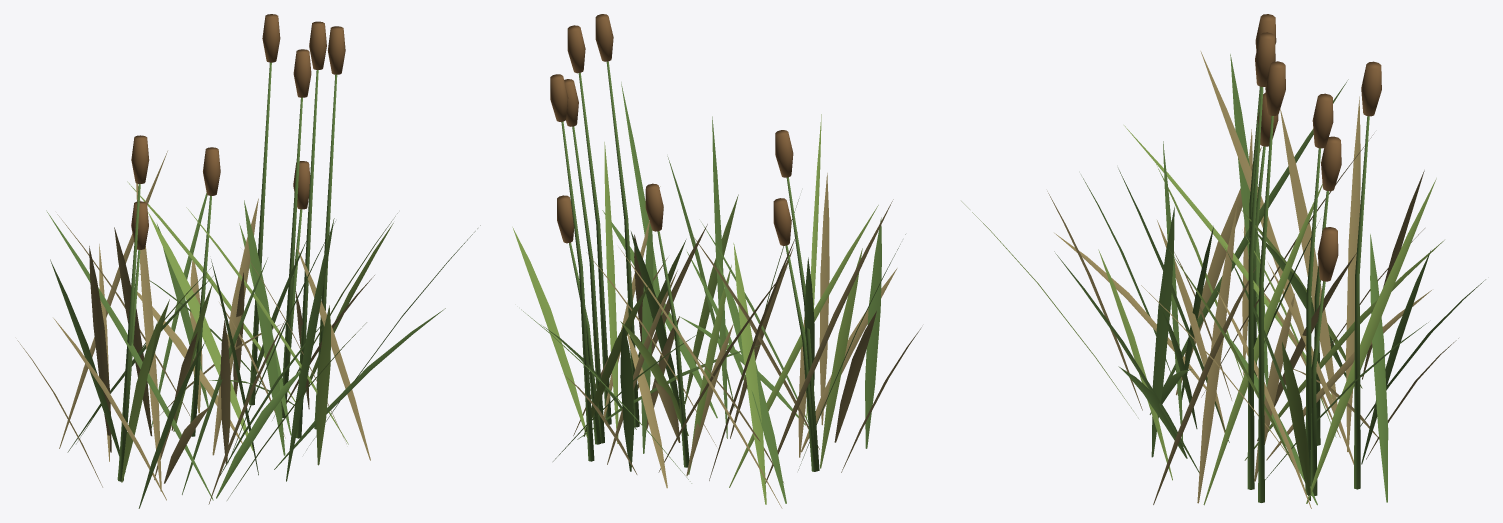
Rendered from sc_cattail.glb.
The picture shows the model from 3 angles, left to right: view 1: azimuth 30°, elevation 25°; view 2: azimuth 150°, elevation 25°; view 3: azimuth 270°, elevation 25°; orthographic projection. The views are drawn at different scales.
Parts seen in each view (by area): view 1: sc_cattail; view 2: sc_cattail; view 3: sc_cattail.
Boxes of the visible parts, x1,y1,x2,y2 form: sc_cattail: (17, 14, 480, 508); sc_cattail: (512, 14, 921, 508); sc_cattail: (961, 14, 1485, 508).
Bounding box in the file's own units: 1.6 × 1.56 × 1.62.
